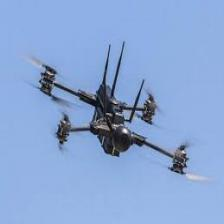drone: (14, 43, 212, 193)
